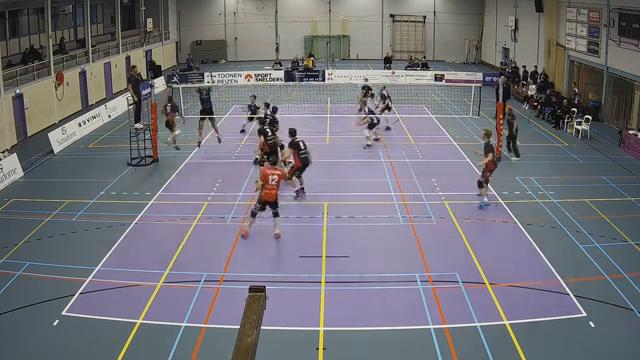Attack: (156, 89, 189, 156)
Block: (189, 68, 226, 151)
Player: (241, 157, 285, 238), (282, 128, 310, 199), (475, 129, 496, 207), (361, 92, 379, 148), (257, 124, 279, 166), (265, 106, 284, 150), (240, 95, 259, 132), (377, 86, 392, 130), (358, 84, 372, 113), (265, 106, 278, 131)
